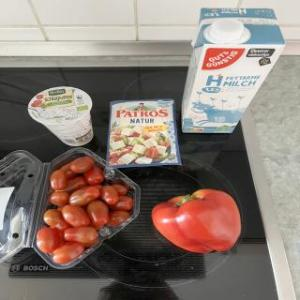tomato: (44, 153, 142, 277)
